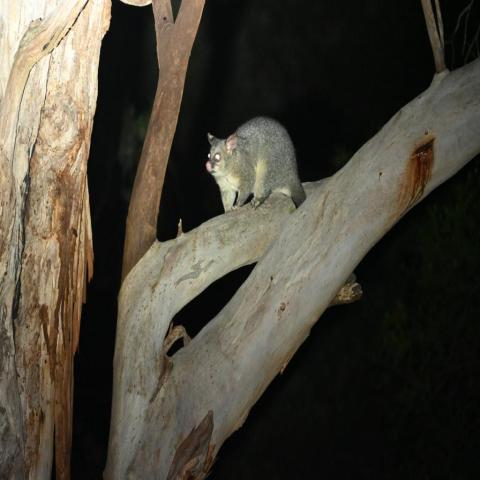small_animal: (203, 114, 307, 214)
